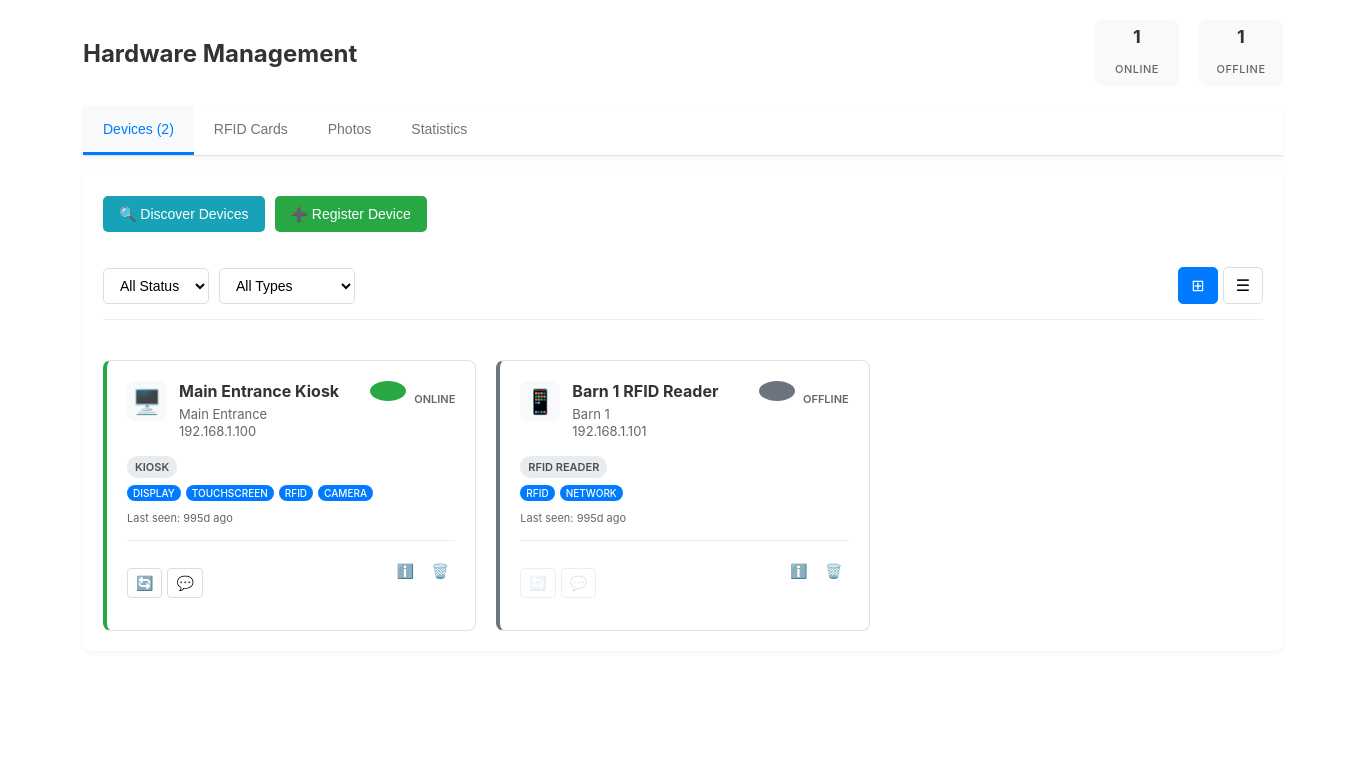
it: HardwareManagement › closes registration modal
Note: Open modal
Click the button "➕ Register Device" at x=351, y=214, box [274,196,427,232]
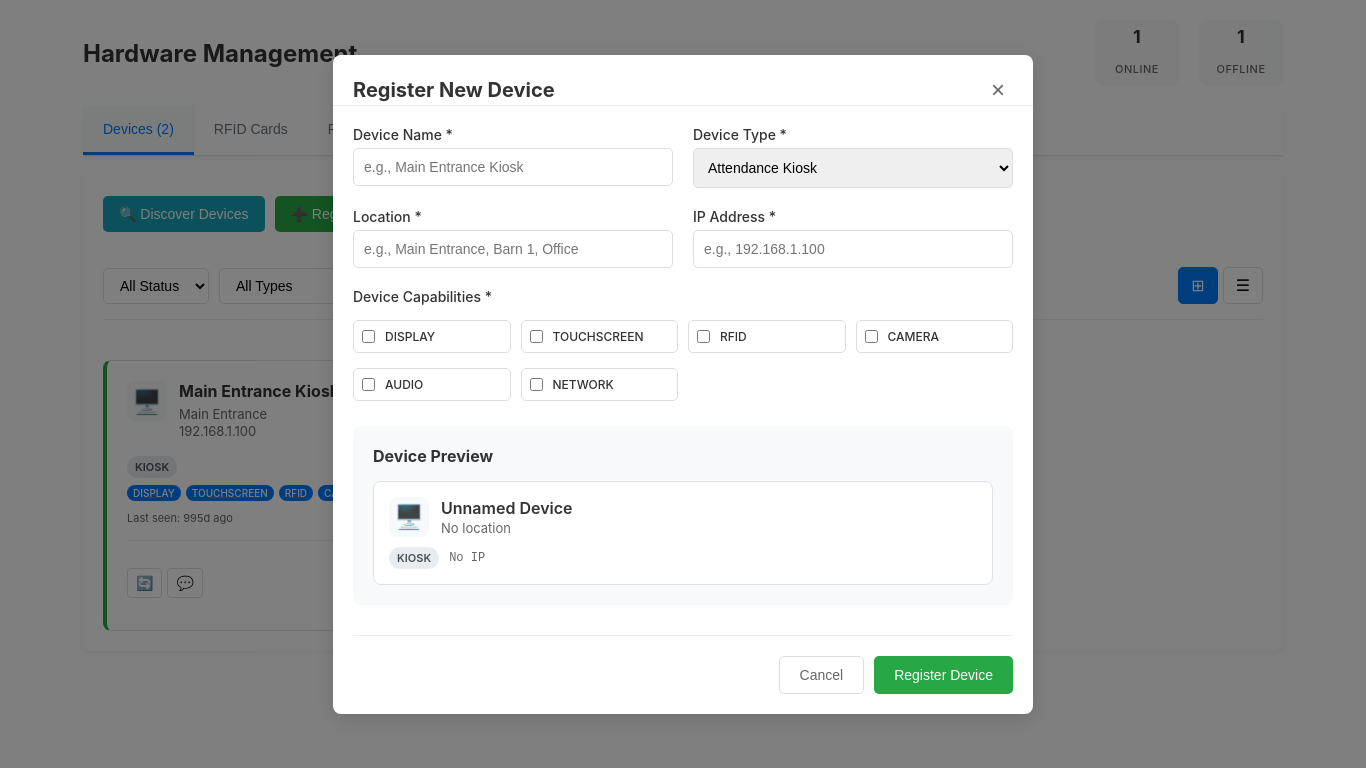
Now the heading "Register New Device" is shown, box [353,78,555,102]
Note: Close modal
Click the button "×" at x=998, y=90, box [983,74,1013,104]
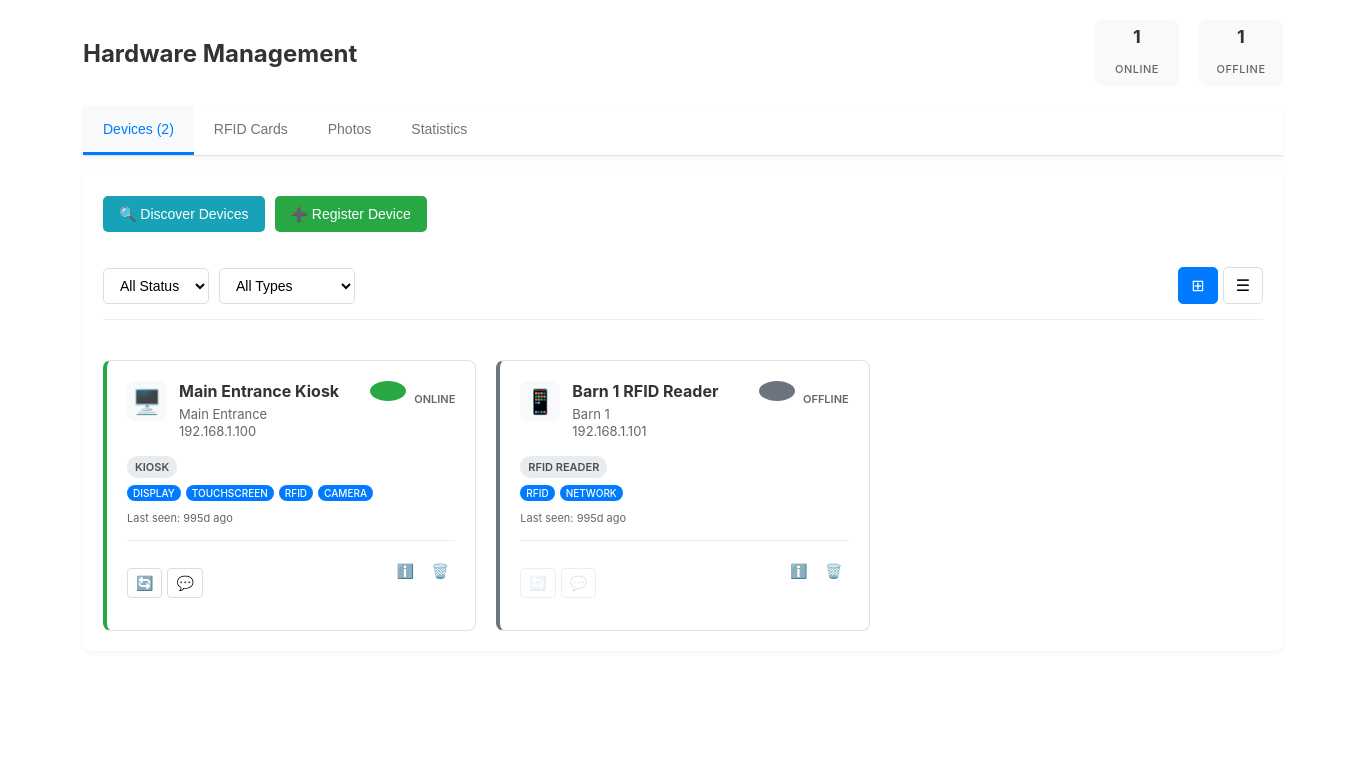
Now the heading "Register New Device" is gone
